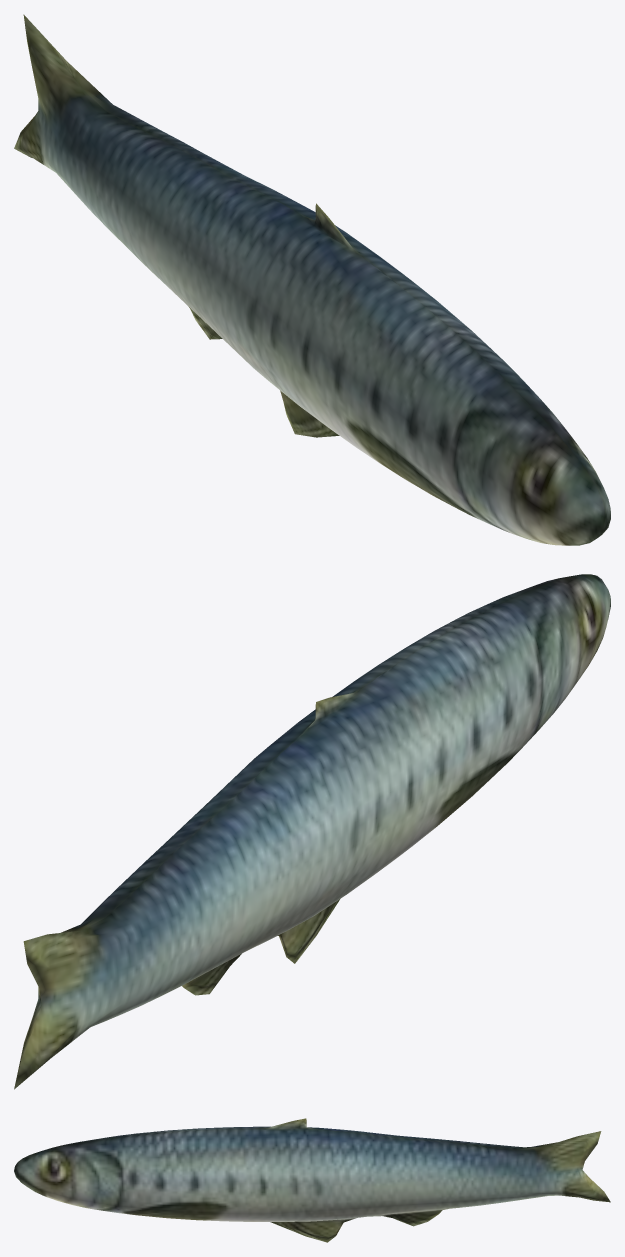
The model's file is iwashi_small.glb.
3 renders of one model, top to bottom at view 1: azimuth 30°, elevation 25°; view 2: azimuth 150°, elevation 25°; view 3: azimuth 270°, elevation 25°, orthographic. The views are drawn at different scales.
Parts seen in each view (by area): view 1: iwashi; view 2: iwashi; view 3: iwashi.
Part boxes in pixels (x1,y1,x2,y2): iwashi: [14, 14, 610, 545]; iwashi: [14, 574, 610, 1089]; iwashi: [14, 1118, 610, 1242].
Bounding box in the file's own units: 0.0152 × 0.0339 × 0.1476.
Materials: 1 (1 with a texture image).
